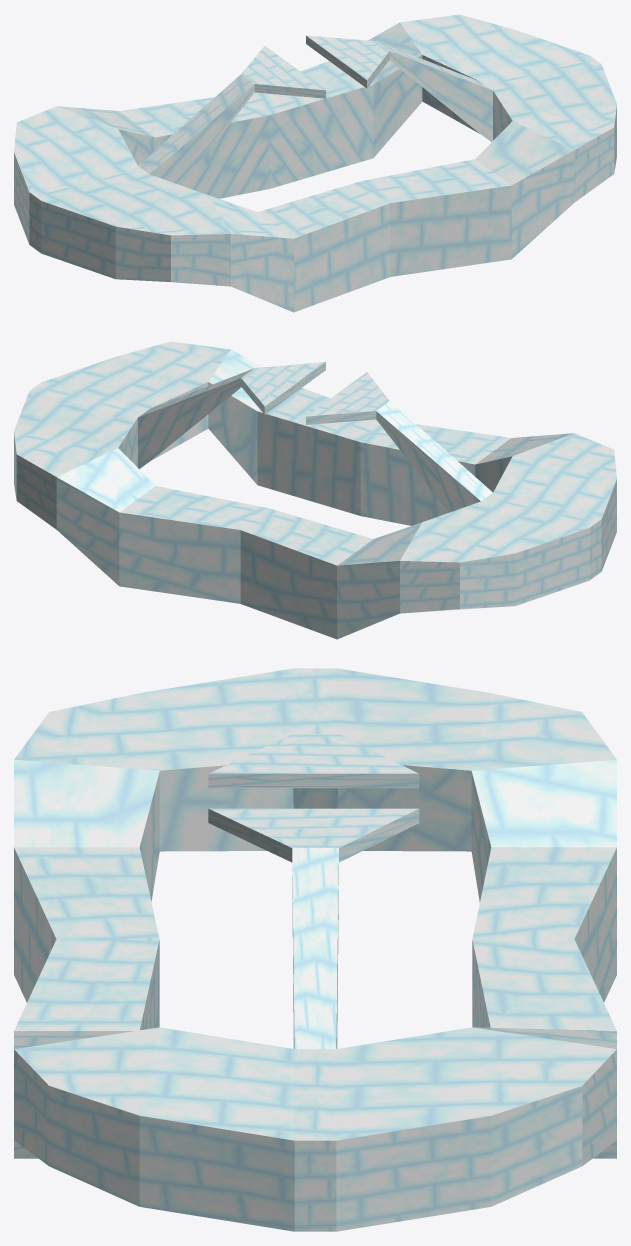
File: csMap.fbx
3 renders of one model, top to bottom at view 1: azimuth 30°, elevation 25°; view 2: azimuth 150°, elevation 25°; view 3: azimuth 270°, elevation 25°, orthographic. The views are drawn at different scales.
Visible parts, largest first — view 1: Cube; view 2: Cube; view 3: Cube.
Boxes of the visible parts, box(x1,y1,x2,y2) form: Cube: box(14, 14, 616, 312); Cube: box(14, 341, 616, 639); Cube: box(14, 668, 616, 1231).
Bounding box in the file's own units: 4470 × 1216 × 2411.
